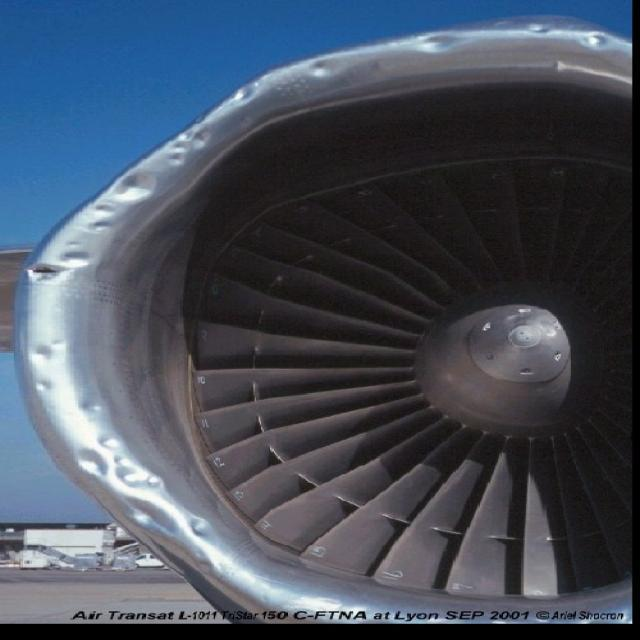dent: (59, 112, 242, 270), (47, 432, 247, 568)
